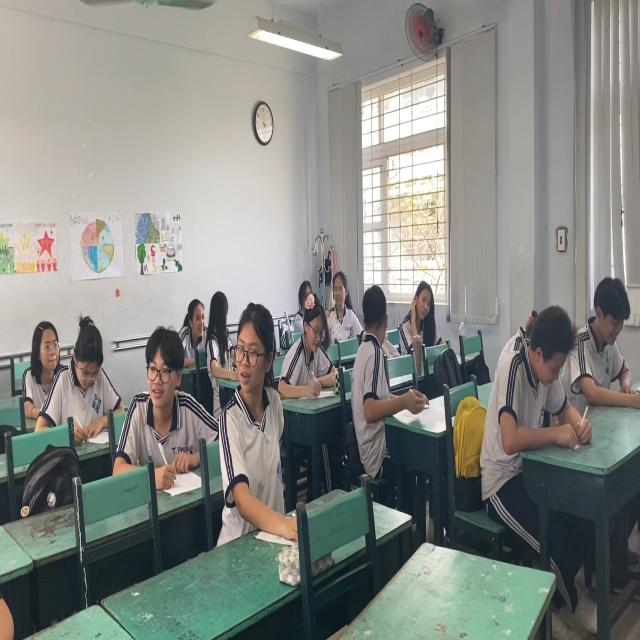cheating: (222, 312, 290, 502), (129, 322, 203, 464), (356, 287, 401, 405), (202, 284, 235, 382), (178, 298, 212, 357)
not_cheating: (490, 298, 586, 451), (24, 315, 121, 433), (572, 275, 640, 402), (292, 278, 331, 395), (325, 260, 362, 340), (393, 277, 440, 333)
